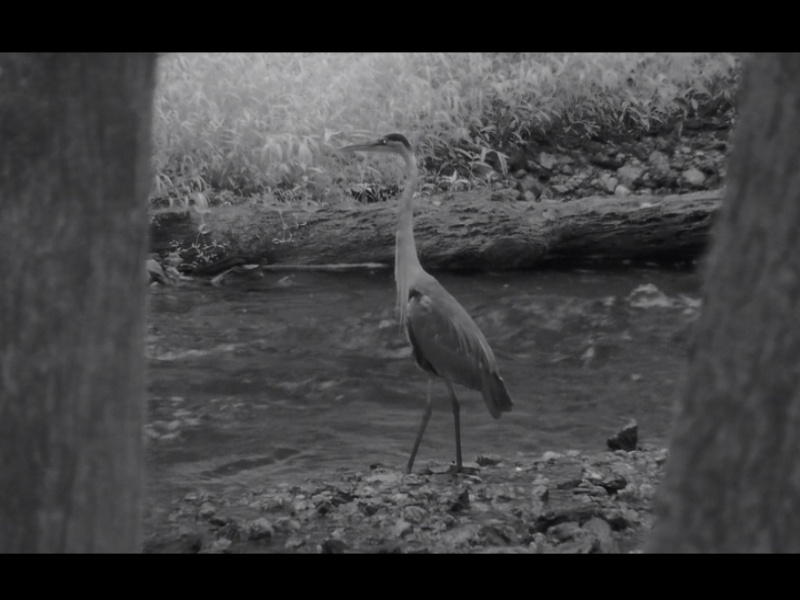heron: (346, 133, 514, 478)
